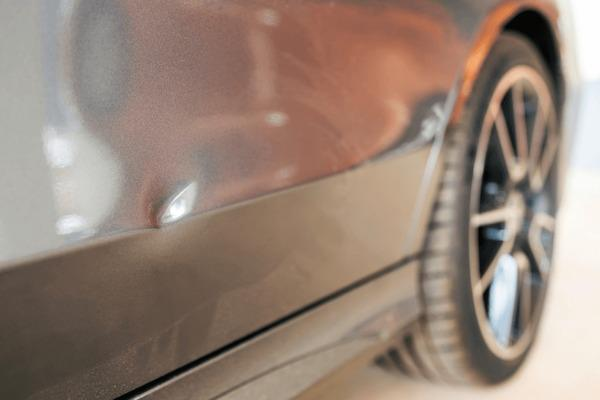dent: (136, 169, 212, 244)
